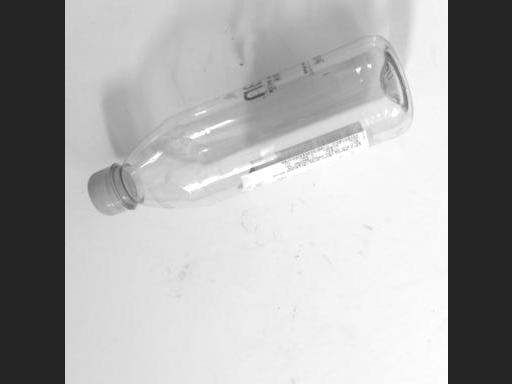bottle: (79, 22, 418, 228)
